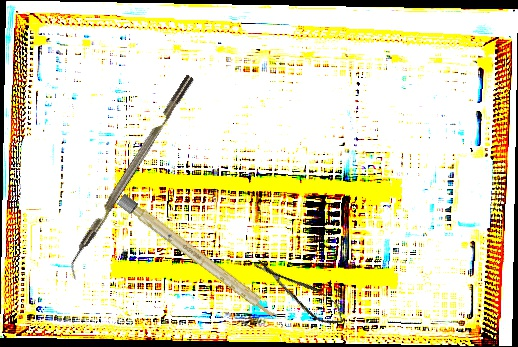Chopper: (60, 74, 204, 281)
Micro Scissor: (250, 250, 350, 333)
Scalpel Handle: (116, 193, 281, 322)
